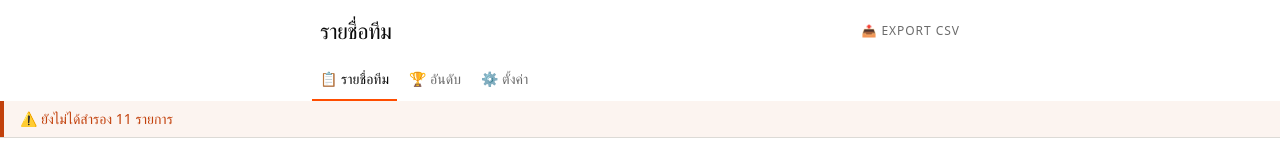
Test: Header › hides the banner again right after exporting
Expected: the text "⚠️ ยังไม่ได้สำรอง 11 รายการ" is shown, [0, 101, 1279, 137]
Step 1. Click the button "📤 Export CSV" → (911, 30), box [861, 22, 960, 38]
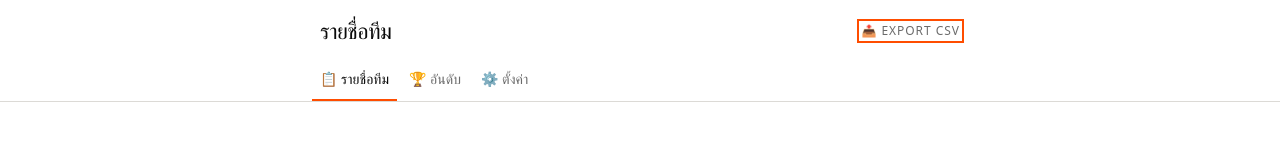
Expected: the text "ยังไม่ได้สำรอง" is gone
